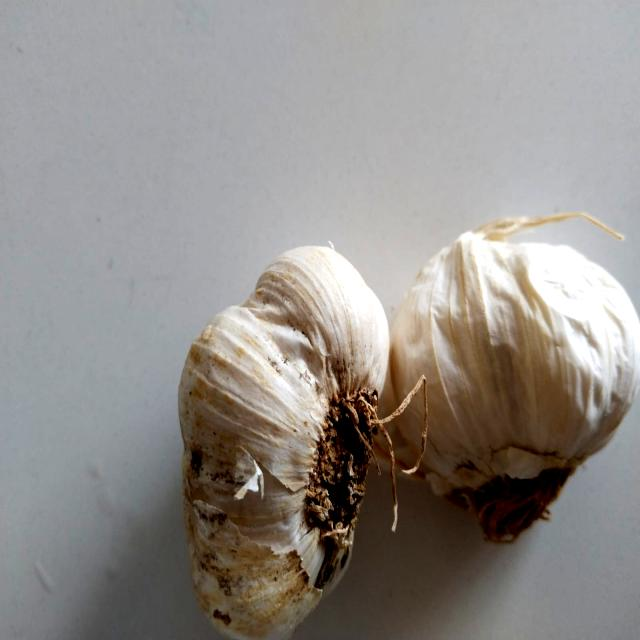garlic: (153, 225, 386, 640), (394, 207, 640, 564)
